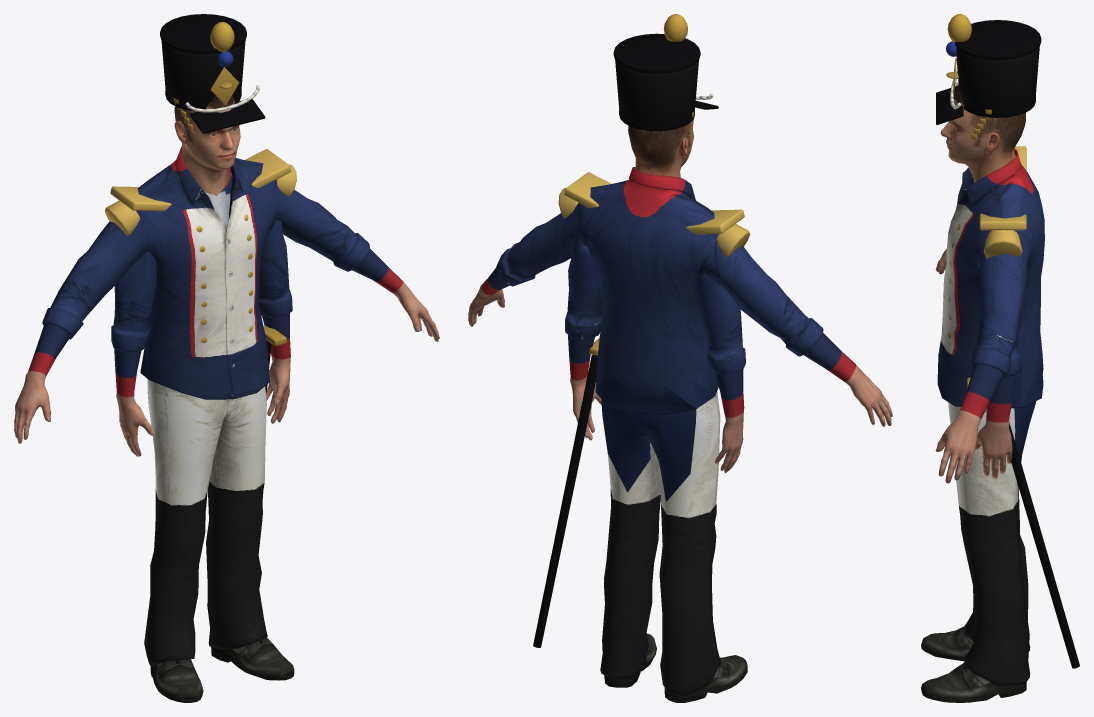
File: officer.glb
3 views of the same model, side by side, from view 1: azimuth 30°, elevation 25°; view 2: azimuth 150°, elevation 25°; view 3: azimuth 270°, elevation 25° (orthographic).
Parts seen in each view (by area): view 1: rest, attention; view 2: rest, attention; view 3: rest, attention.
Part boxes in pixels (left/top/right/bottom): rest: left=14, top=14, right=439, bottom=701; attention: left=111, top=95, right=294, bottom=702; rest: left=468, top=14, right=892, bottom=702; attention: left=565, top=185, right=747, bottom=690; rest: left=921, top=14, right=1079, bottom=702; attention: left=921, top=82, right=1042, bottom=697.
Bounding box in the file's own units: 1.35 × 2.02 × 0.4405.
11 materials, 3 textured.
